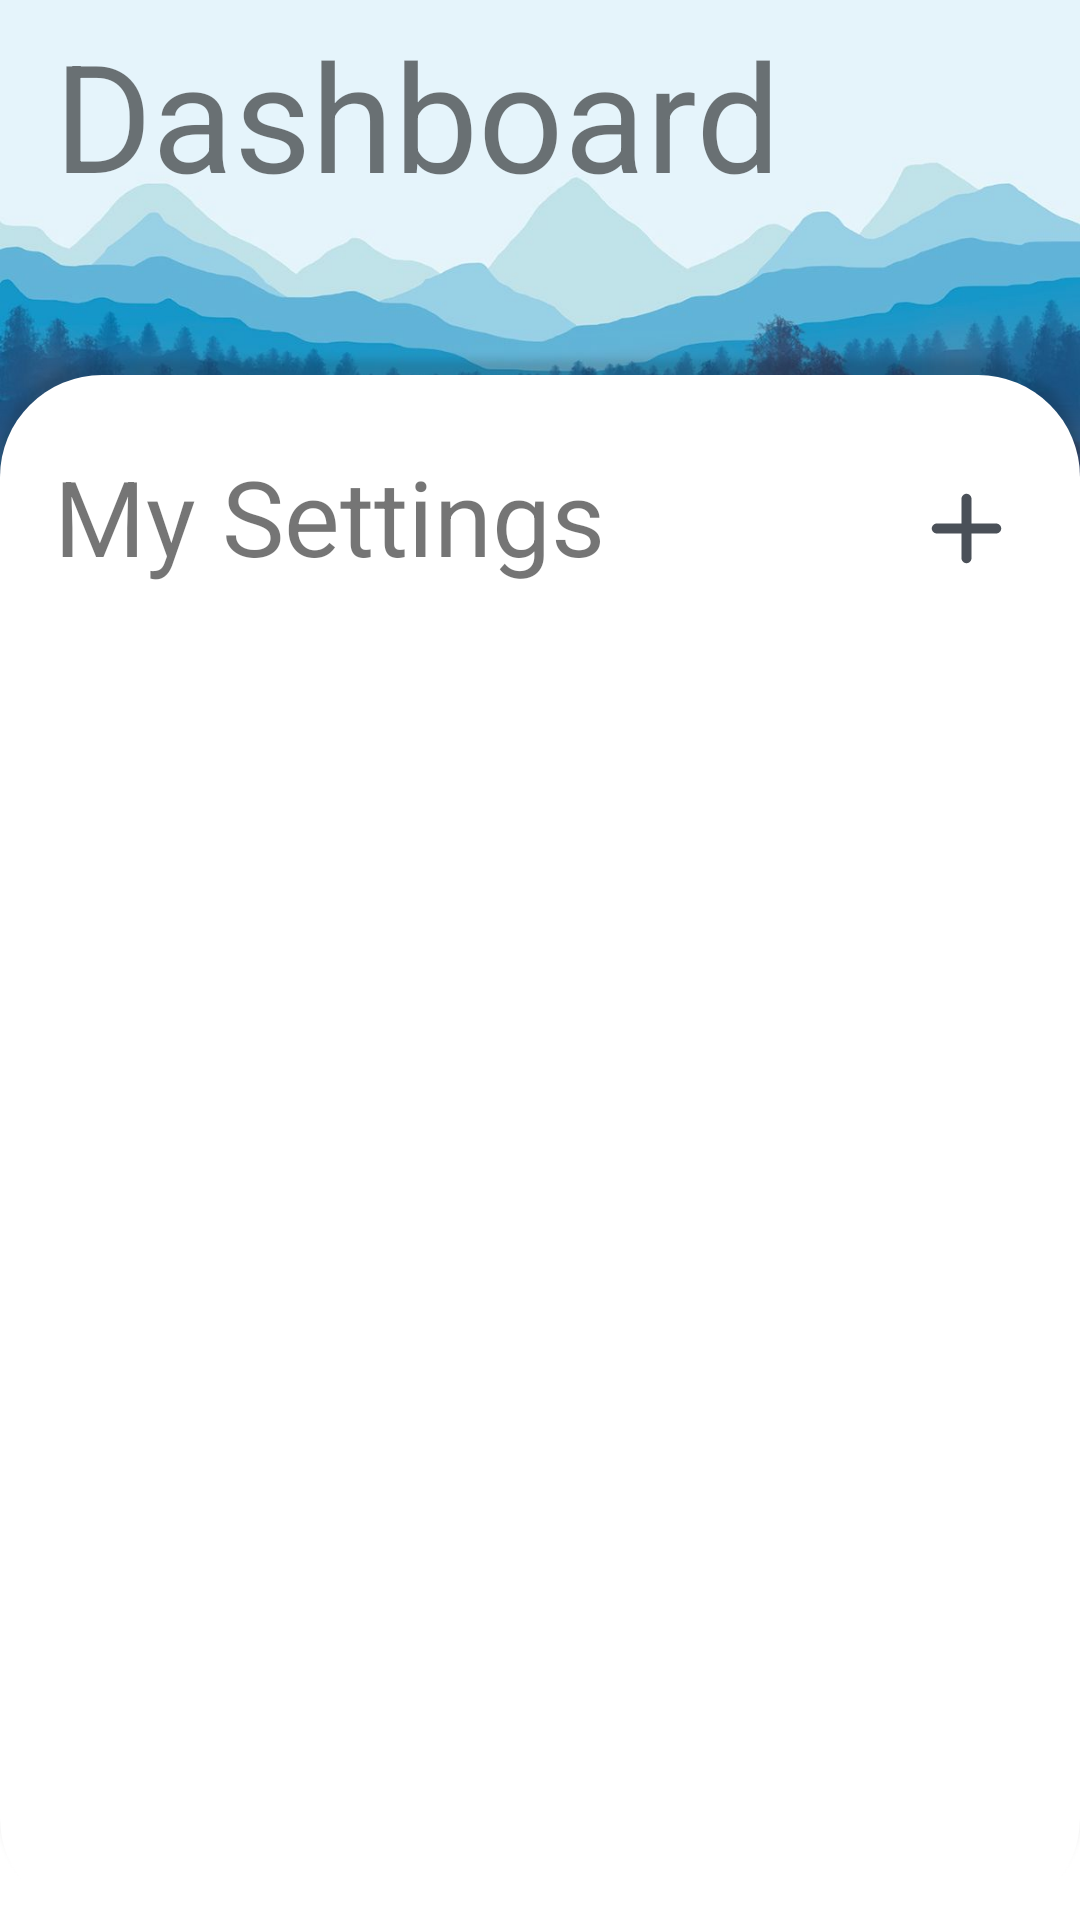

Icon bounding boxes for this 1080w x 1920h phone screenshot, format {"left": x1, "top": y1, "right": x2, "bottom": y2}:
add: {"left": 931, "top": 493, "right": 1002, "bottom": 564}
